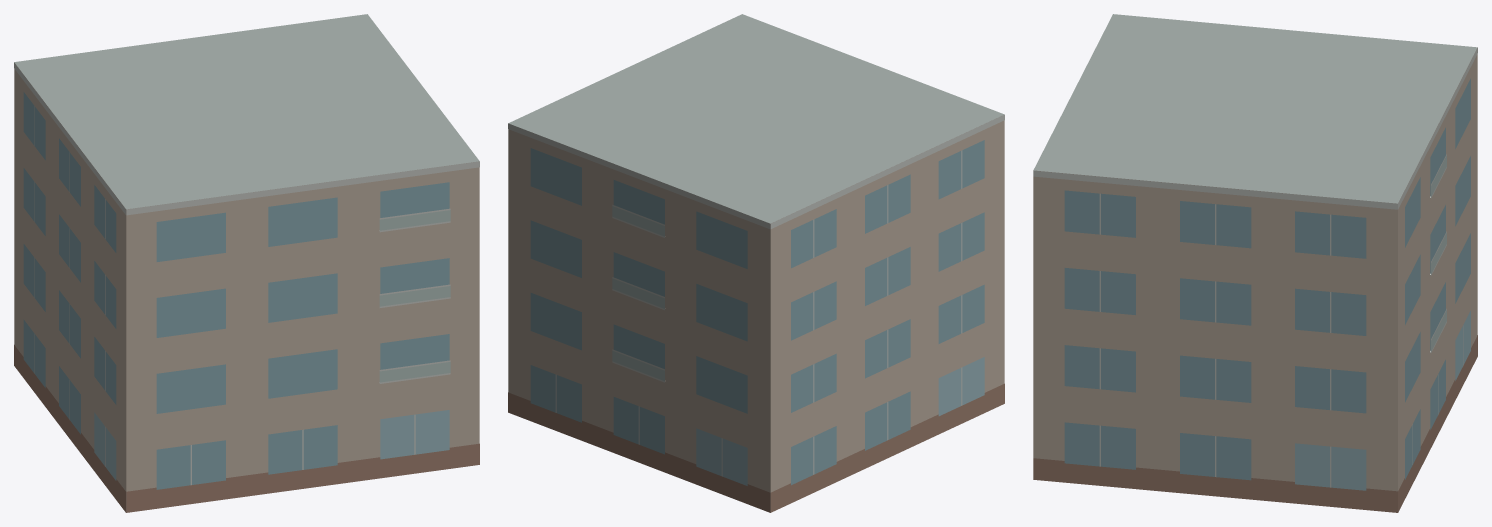
Rendered from residential-243ae691-c7e7-45f3-b19e-e4d1560828bd.glb.
3 views of the same model, side by side, from view 1: azimuth 30°, elevation 25°; view 2: azimuth 150°, elevation 25°; view 3: azimuth 270°, elevation 25° (orthographic). The views are drawn at different scales.
Visible parts, largest first — view 1: residential-243ae691-c7e7-45f3-b19e-e4d1560828bd.tmp; view 2: residential-243ae691-c7e7-45f3-b19e-e4d1560828bd.tmp; view 3: residential-243ae691-c7e7-45f3-b19e-e4d1560828bd.tmp.
Boxes of the visible parts, x1,y1,x2,y2 form: residential-243ae691-c7e7-45f3-b19e-e4d1560828bd.tmp: (14, 14, 479, 512); residential-243ae691-c7e7-45f3-b19e-e4d1560828bd.tmp: (508, 14, 1004, 512); residential-243ae691-c7e7-45f3-b19e-e4d1560828bd.tmp: (1033, 14, 1477, 512).
Bounding box in the file's own units: 16.05 × 12.2 × 15.9.
